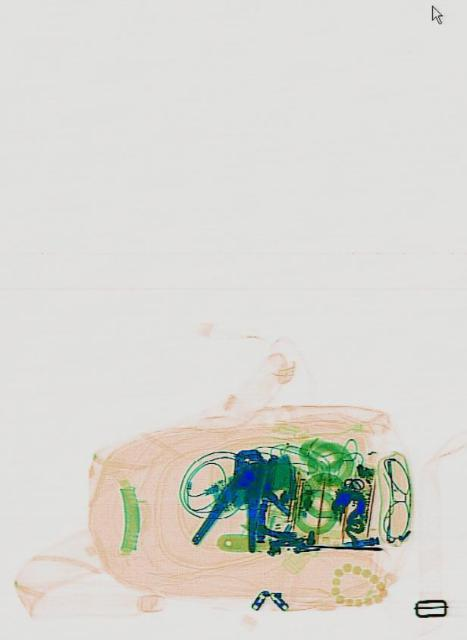Pliers: (189, 434, 274, 564)
